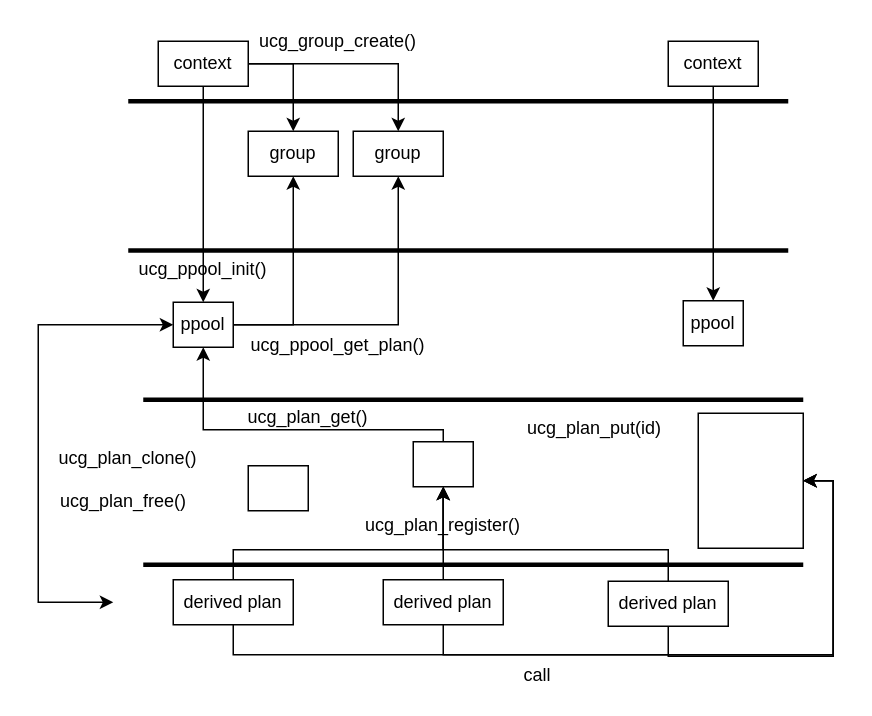
Image size: 872x716. Some labels were removed from this diagram. Here are the shapes that lost their labels. From the top down, the box of each, then its label:
(412, 440, 473, 487): plan
(697, 412, 803, 548): common functions
(247, 464, 308, 511): action
